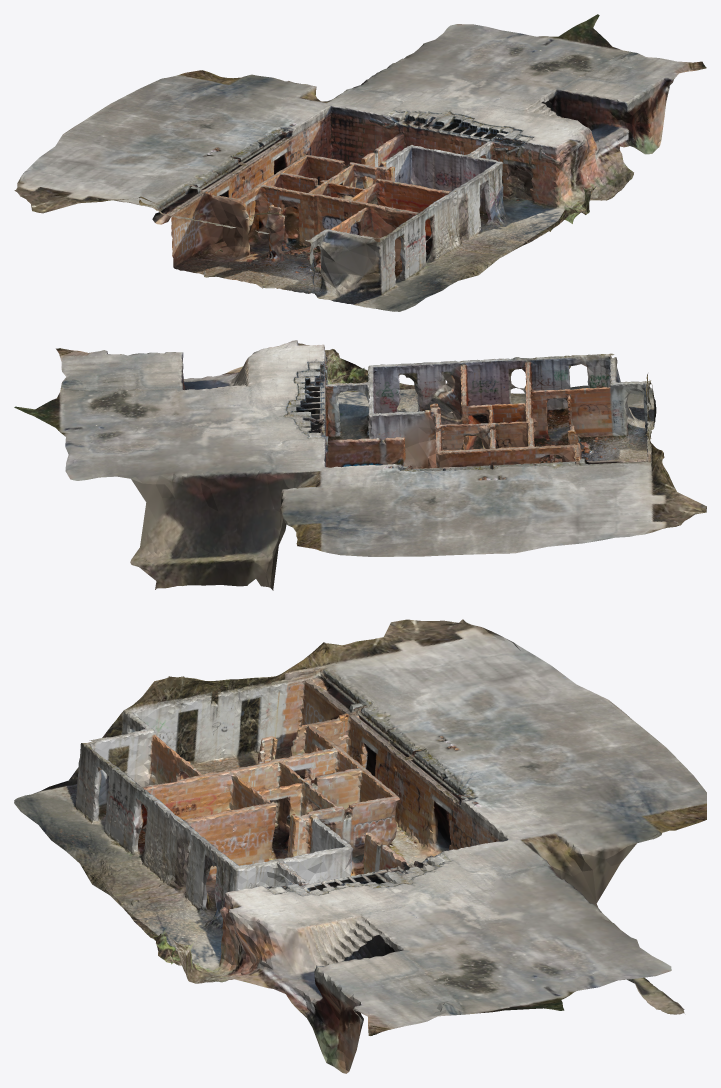
3 views of the same model, one above another, from view 1: azimuth 30°, elevation 25°; view 2: azimuth 150°, elevation 25°; view 3: azimuth 270°, elevation 25° (orthographic). The views are drawn at different scales.
Bounding box in the file's own units: 53.7 × 10.14 × 38.64.
Materials: 1 (1 with a texture image).
